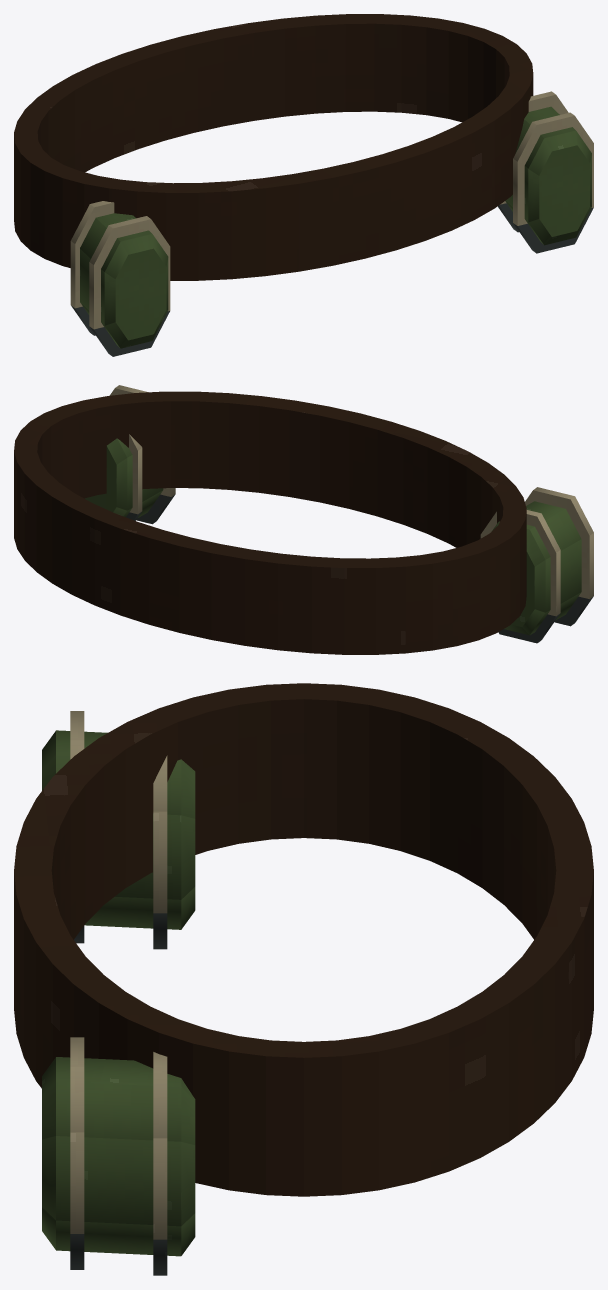
Rendered from item_artifactBelt2.glb.
The picture shows the model from 3 angles, top to bottom: view 1: azimuth 30°, elevation 25°; view 2: azimuth 150°, elevation 25°; view 3: azimuth 270°, elevation 25°; orthographic projection. The views are drawn at different scales.
Visible parts, largest first — view 1: WornLeatherBelt, Donor_station-container-flat_0, Donor_station-container-flat_0.001; view 2: WornLeatherBelt, Donor_station-container-flat_0, Donor_station-container-flat_0.001; view 3: WornLeatherBelt, Donor_station-container-flat_0.001, Donor_station-container-flat_0.
Part boxes in pixels (x1,y1,x2,y2): WornLeatherBelt: (14, 14, 533, 280); Donor_station-container-flat_0: (70, 201, 170, 356); Donor_station-container-flat_0.001: (498, 91, 593, 253); WornLeatherBelt: (14, 391, 526, 654); Donor_station-container-flat_0: (480, 487, 593, 643); Donor_station-container-flat_0.001: (84, 385, 175, 524); WornLeatherBelt: (14, 683, 593, 1196); Donor_station-container-flat_0.001: (42, 1037, 195, 1275); Donor_station-container-flat_0: (42, 711, 195, 949).
Bounding box in the file's own units: 0.3927 × 0.105 × 0.246.
4 materials, 4 textured.
